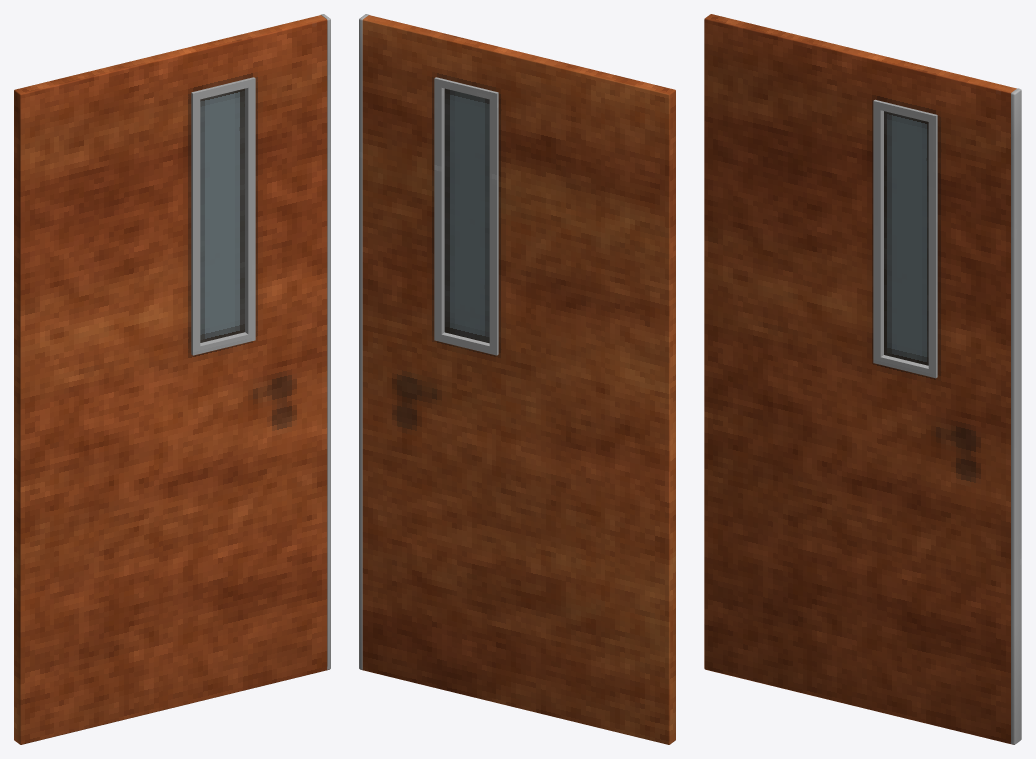
File: Door_1.glb
3 renders of one model, left to right at view 1: azimuth 30°, elevation 25°; view 2: azimuth 150°, elevation 25°; view 3: azimuth 330°, elevation 25°, orthographic.
Parts seen in each view (by area): view 1: Door_1.001; view 2: Door_1.001; view 3: Door_1.001.
Part boxes in pixels (box(x1,y1,x2,y2)): Door_1.001: box(14, 14, 330, 744); Door_1.001: box(359, 14, 675, 744); Door_1.001: box(704, 14, 1021, 744).
Bounding box in the file's own units: 0.9995 × 2 × 0.0565.
Materials: 1 (1 with a texture image).
